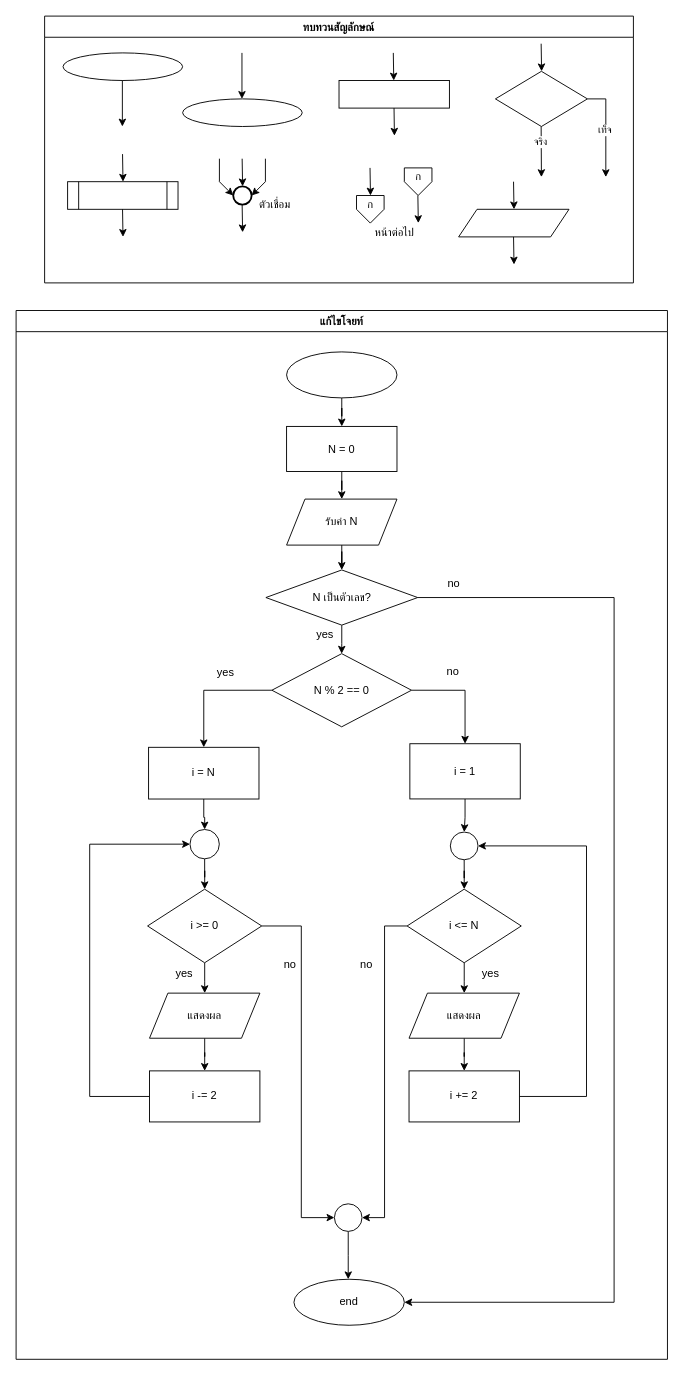
Image size: 684x1375. Some labels were removed from this diagram. Here are the shapes that lost their labels. From the top down, the centre of each, then its label:
the point at 122,66: เริ่มต้น
the point at 242,112: สิ้นสุด
the point at 393,94: กระบวนการ
the point at 540,98: ประโยคเงื่อนไข
the point at 122,195: ฟังก์ชัน/โมดูล
the point at 513,222: แสดงผล/รับค่า
the point at 341,374: start
